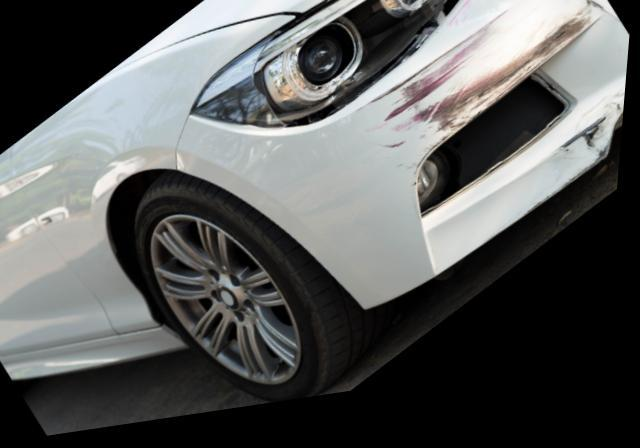lamp broken: (193, 0, 472, 136)
scratch: (367, 0, 607, 178), (522, 104, 629, 236)
